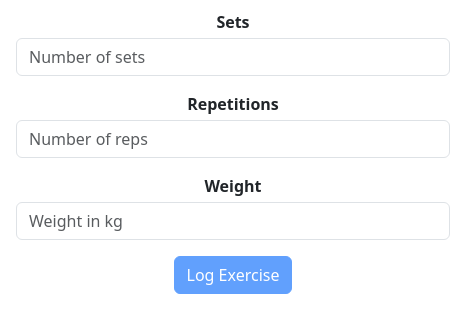
WeightTraining Component Tests › enables submit button when all input fields are filled
Type "3" into the number field with placeholder "Number of sets" at [233, 57], box x1=16 y1=38 x2=450 y2=76
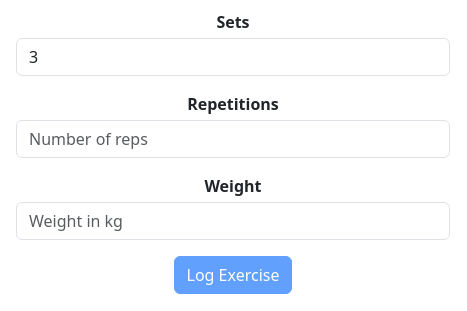
Type "10" into the number field with placeholder "Number of reps" at [233, 139], box x1=16 y1=120 x2=450 y2=158
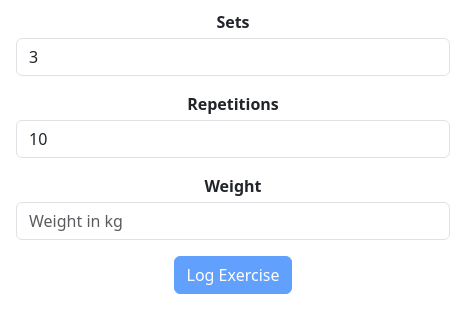
Type "50" into the number field with placeholder "Weight in kg" at [233, 221], box x1=16 y1=202 x2=450 y2=240
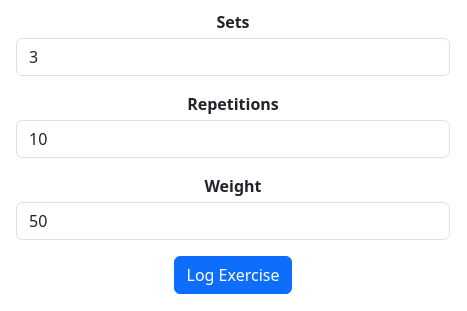
Now the button "Log Exercise" is enabled, box x1=174 y1=256 x2=292 y2=294
